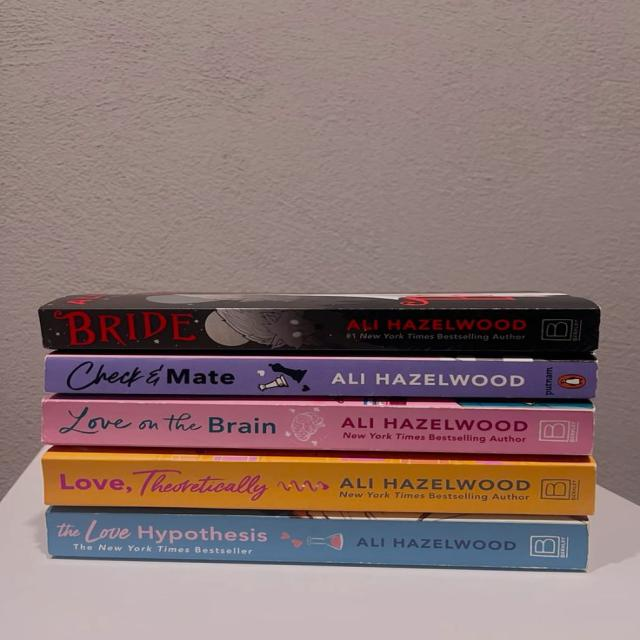book: (43, 448, 595, 516), (39, 294, 600, 358), (47, 507, 588, 571), (42, 395, 594, 456), (46, 352, 597, 399)
